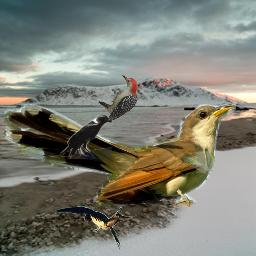Crow: (58, 113, 112, 159)
Cuckoo: (4, 104, 236, 207)
Swallow: (54, 202, 146, 250)
Woodpecker: (99, 74, 139, 122)
